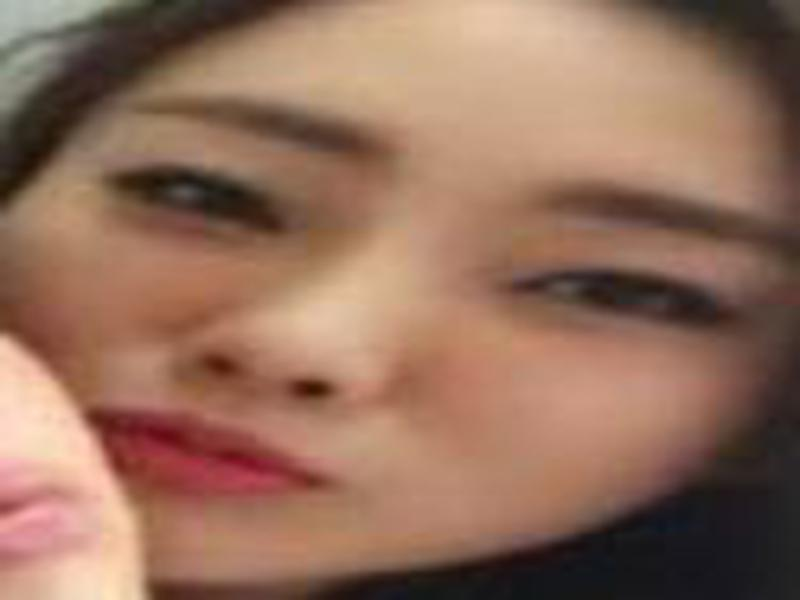without_mask: (12, 6, 793, 578)
